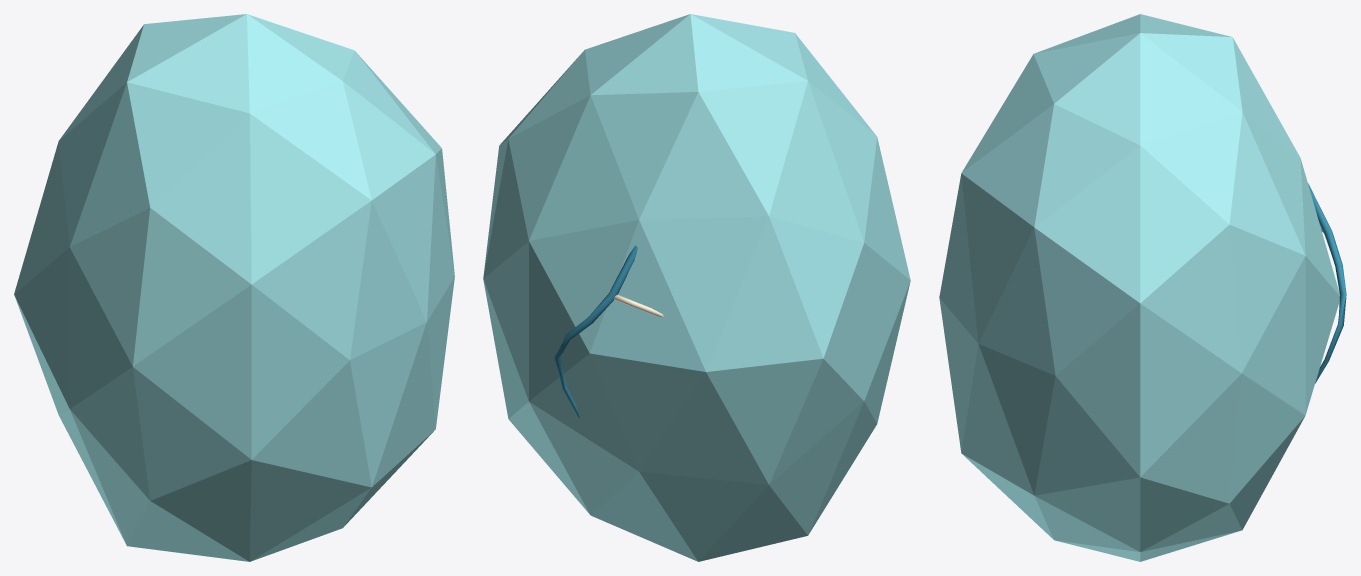
The model's file is Hailstone3.glb.
3 views of the same model, side by side, from view 1: azimuth 30°, elevation 25°; view 2: azimuth 150°, elevation 25°; view 3: azimuth 270°, elevation 25° (orthographic). The views are drawn at different scales.
Parts seen in each view (by area): view 1: Hailstone3__Body; view 2: Hailstone3__Body; view 3: Hailstone3__Body.
Part boxes in pixels (x1,y1,x2,y2): Hailstone3__Body: (14, 14, 454, 561); Hailstone3__Body: (483, 14, 910, 561); Hailstone3__Body: (939, 14, 1346, 561).
Size of the model in its own units: 0.9554 by 1.3 by 0.9101.
1 material, 1 textured.
